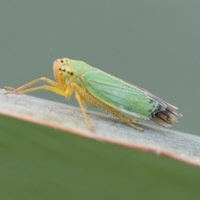insect: (4, 58, 181, 131)
